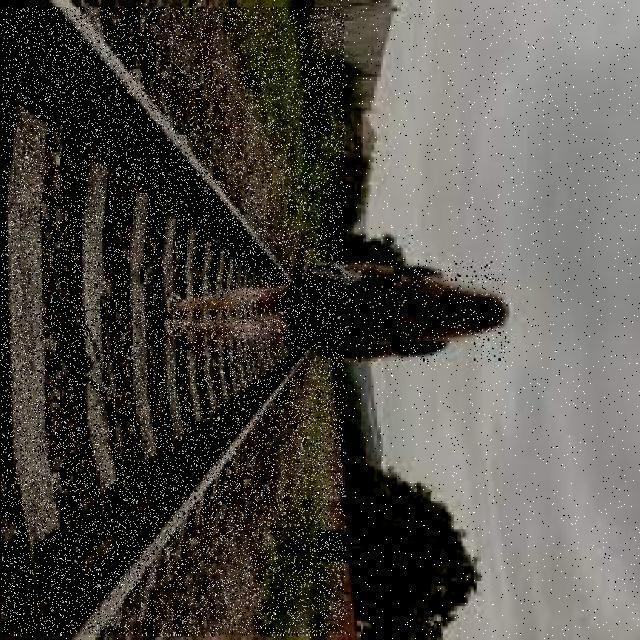rail: (3, 8, 345, 636)
